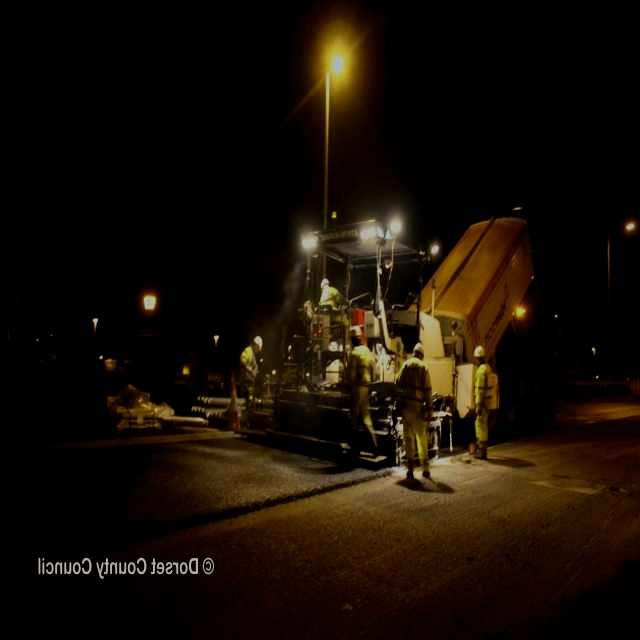Con_Chaleco: (401, 359, 429, 412), (473, 363, 499, 409)
